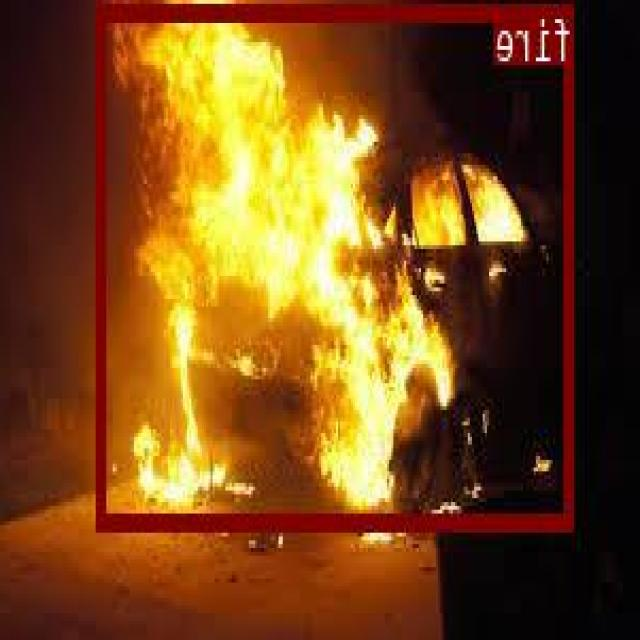fire: (99, 3, 575, 528)
